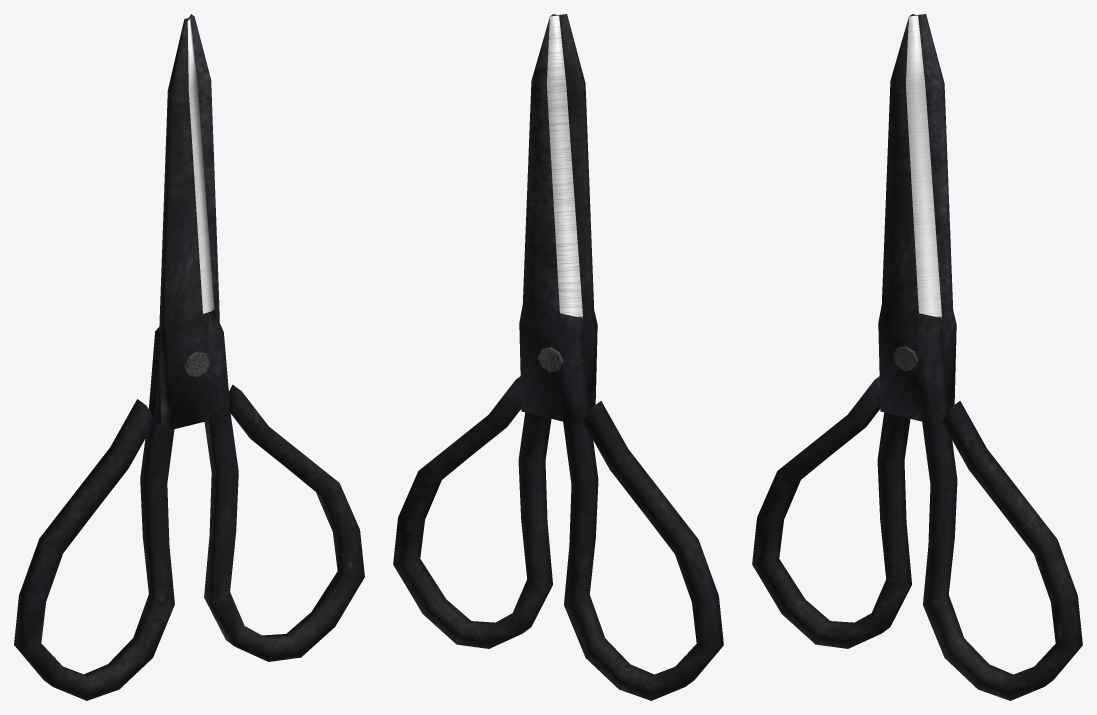
The model's file is drag.fbx.
3 renders of one model, left to right at view 1: azimuth 30°, elevation 25°; view 2: azimuth 150°, elevation 25°; view 3: azimuth 330°, elevation 25°, orthographic.
Parts seen in each view (by area): view 1: Cylinder.003; view 2: Cylinder.003; view 3: Cylinder.003.
Part boxes in pixels (x1,y1,x2,y2): Cylinder.003: (14,14,364,700); Cylinder.003: (393,14,723,700); Cylinder.003: (752,14,1082,700).
Bounding box in the file's own units: 10.21 × 1.13 × 19.29.
3 materials, 3 textured.
